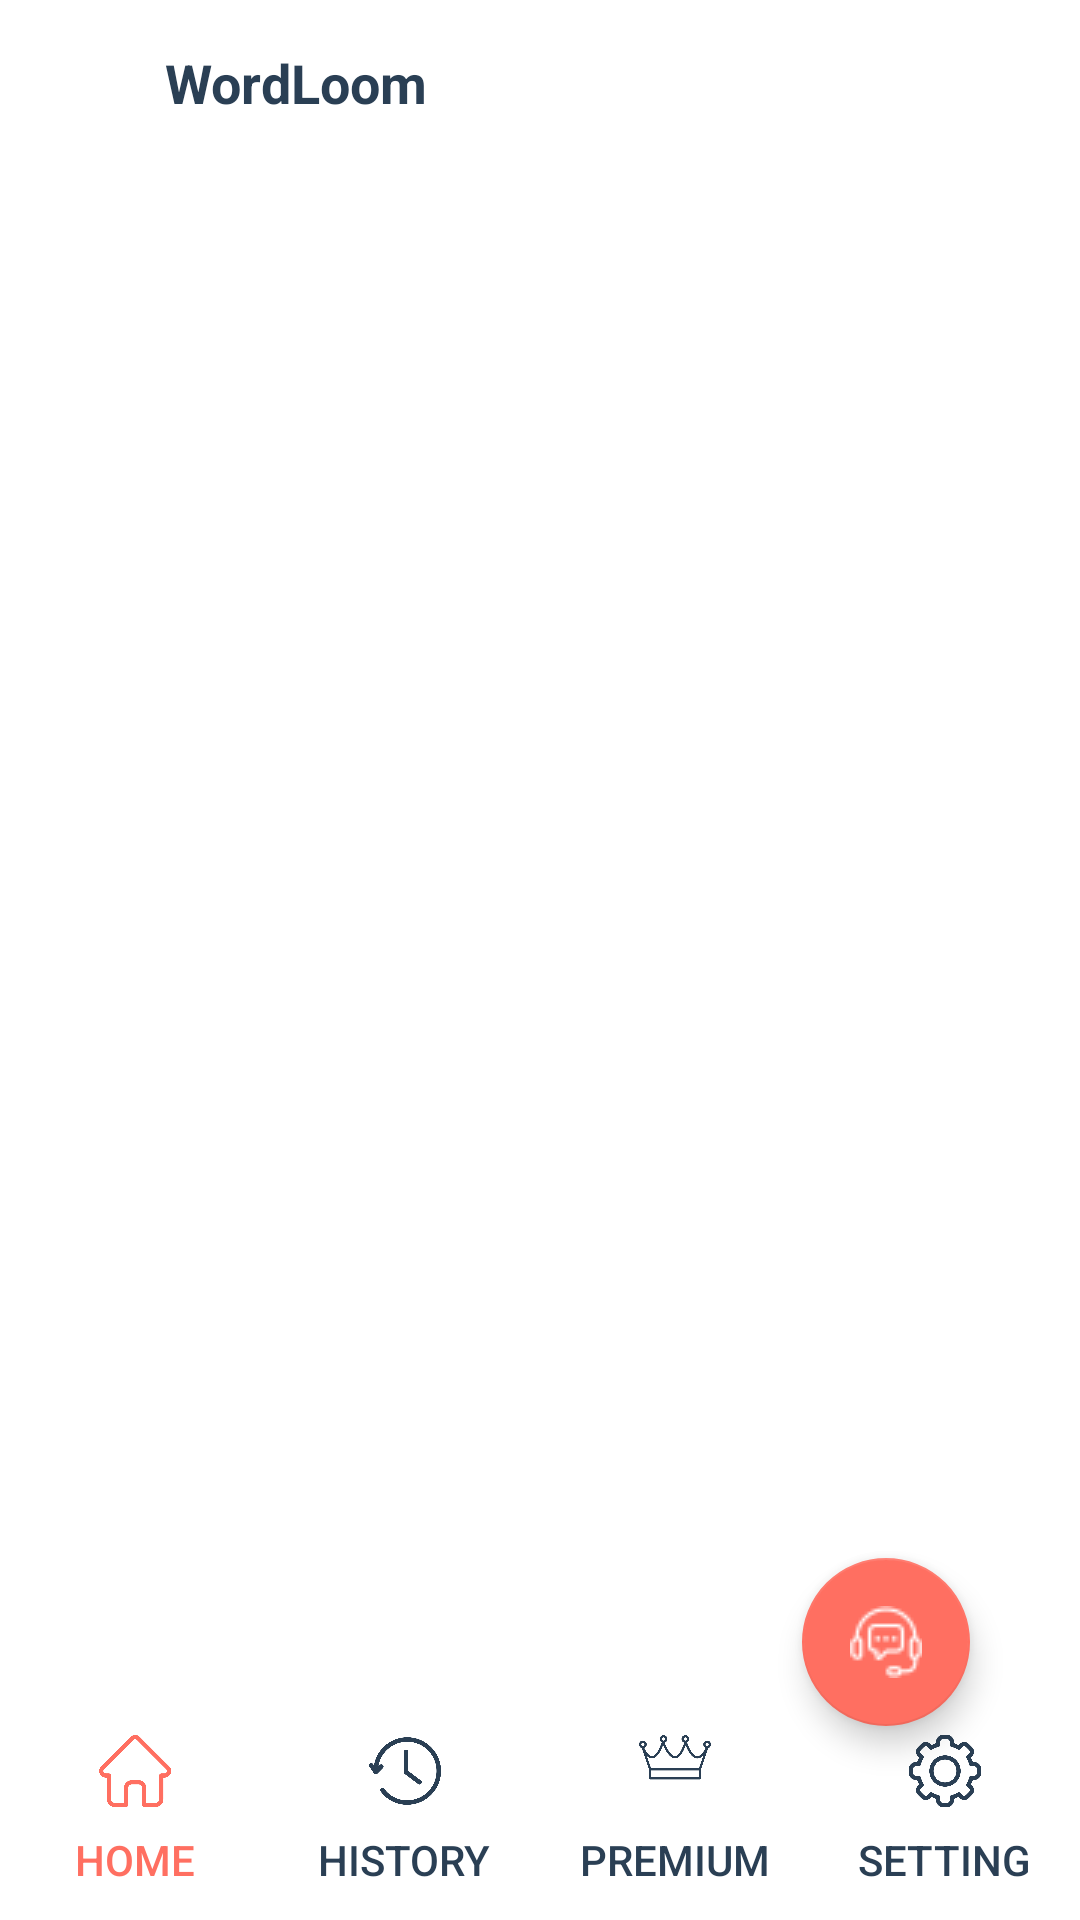

Point at icon controls on the screen. Image size 1080×1920, points as (x,y).
Get help and support: (886,1642)
